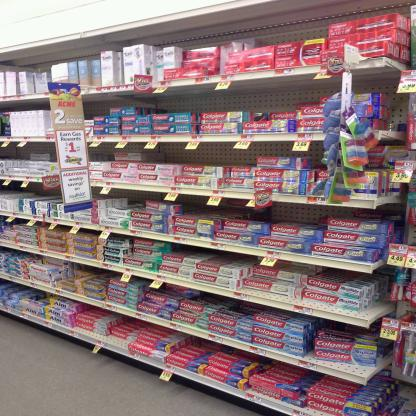Void: (155, 140, 253, 168), (162, 96, 296, 112), (187, 194, 257, 220), (200, 290, 248, 312), (177, 247, 255, 260), (276, 206, 317, 227), (324, 320, 370, 335), (102, 141, 151, 155), (325, 269, 366, 280), (124, 189, 142, 207)
